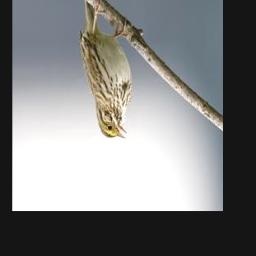Sparrow: (78, 0, 131, 143)
